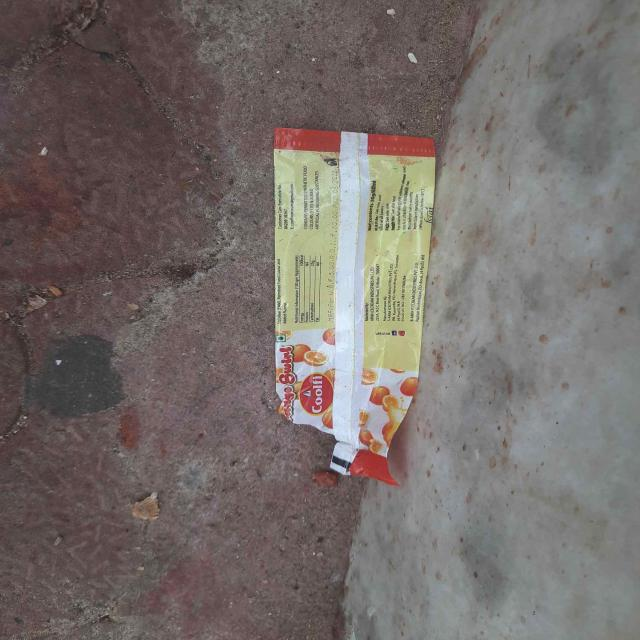wrapper: (273, 127, 435, 482)
